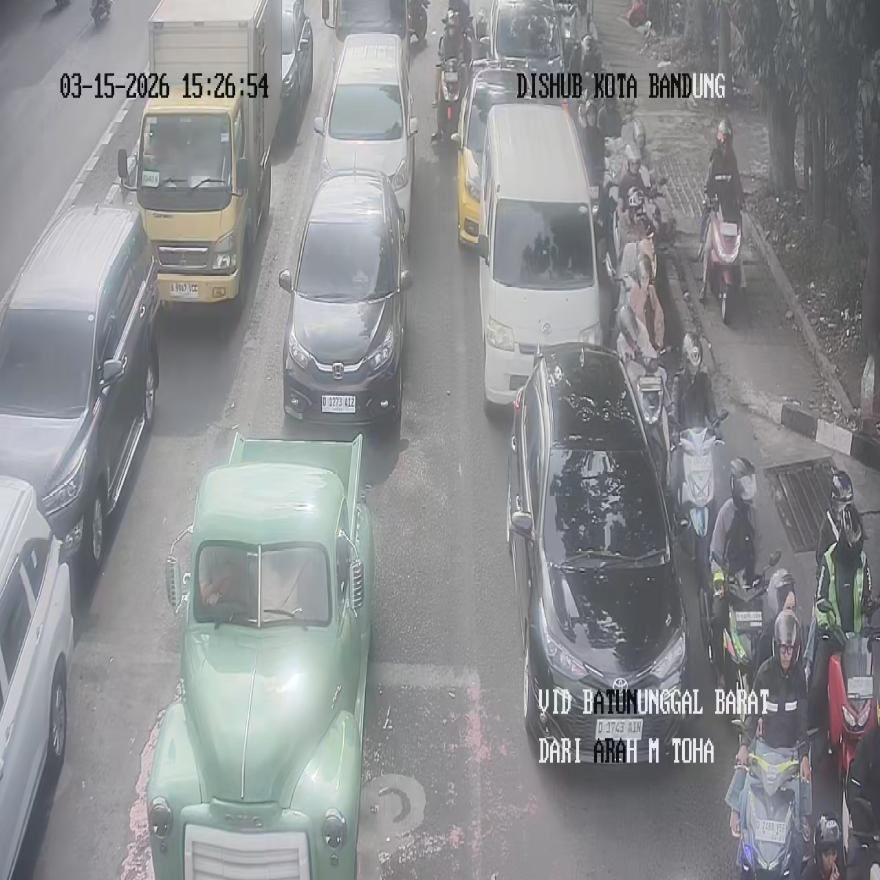Mobil: (145, 430, 374, 878), (506, 344, 690, 761), (0, 204, 160, 571), (476, 100, 602, 405), (279, 169, 411, 426), (0, 475, 74, 876), (314, 31, 418, 243)
